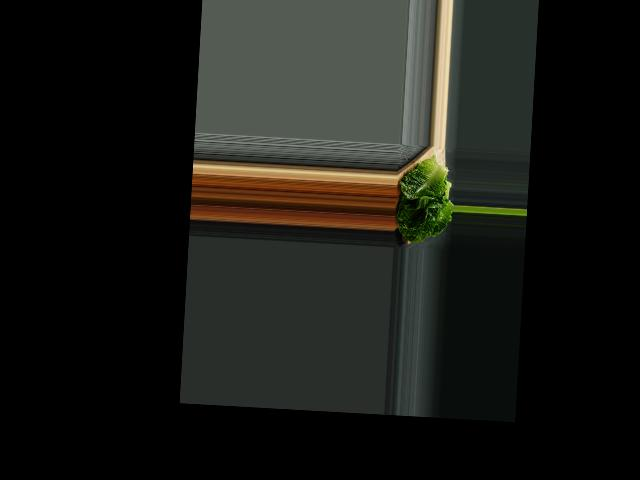lettuce: (392, 156, 455, 247)
